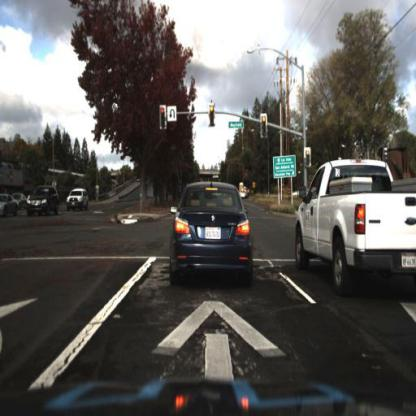car: (292, 160, 416, 289), (170, 180, 255, 285), (26, 185, 61, 218), (64, 188, 92, 213), (1, 195, 20, 221), (1, 193, 18, 219)
trafficLight-Red: (305, 146, 315, 175), (208, 102, 217, 128), (262, 113, 270, 139), (305, 149, 312, 170)
trafficLight-RedLeft: (159, 104, 169, 138), (159, 106, 166, 132)
